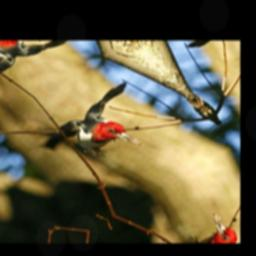Woodpecker: (27, 74, 179, 182)
